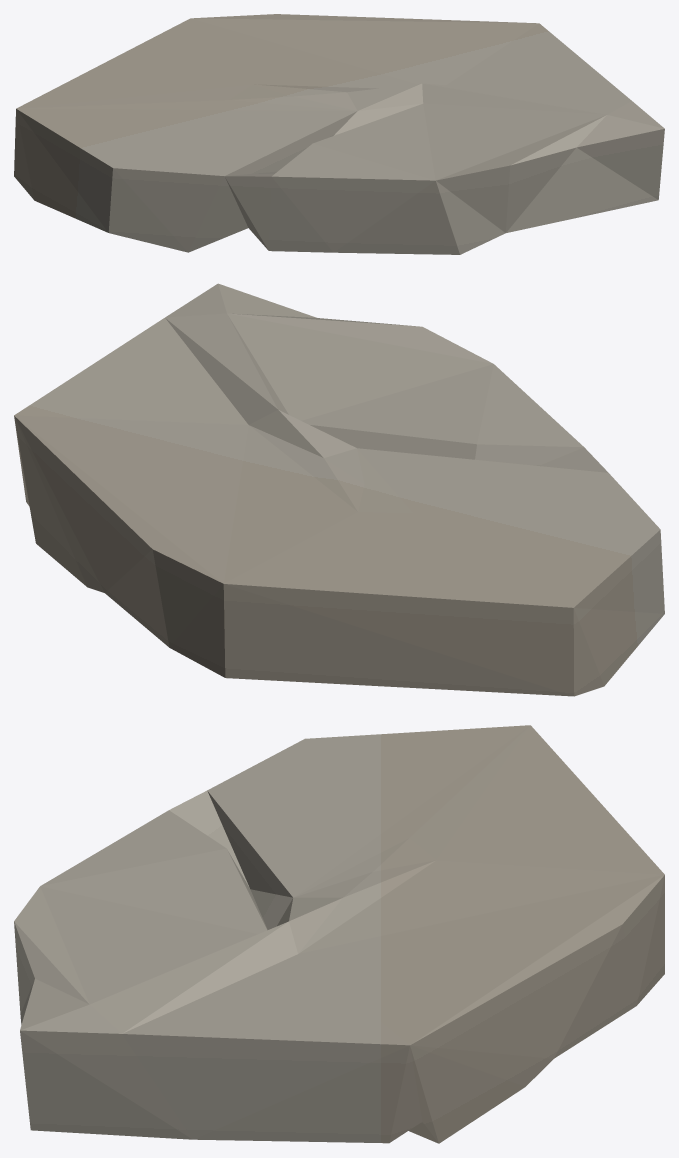
File: YN_RockPlate3.fbx
3 renders of one model, top to bottom at view 1: azimuth 30°, elevation 25°; view 2: azimuth 150°, elevation 25°; view 3: azimuth 270°, elevation 25°, orthographic. The views are drawn at different scales.
Visible parts, largest first — view 1: RockPlate3; view 2: RockPlate3; view 3: RockPlate3.
Part boxes in pixels (left/top/right/bottom): RockPlate3: left=14, top=14, right=664, bottom=254; RockPlate3: left=14, top=283, right=664, bottom=696; RockPlate3: left=14, top=725, right=664, bottom=1143.
Bounding box in the file's own units: 1.09 × 0.2345 × 0.9305.
